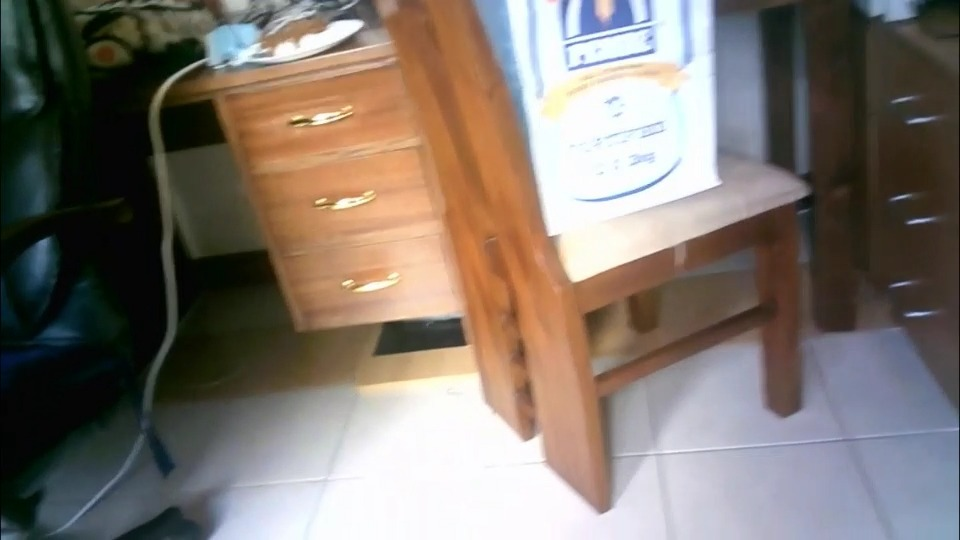wheat_flour_blue_label: (492, 0, 723, 228)
